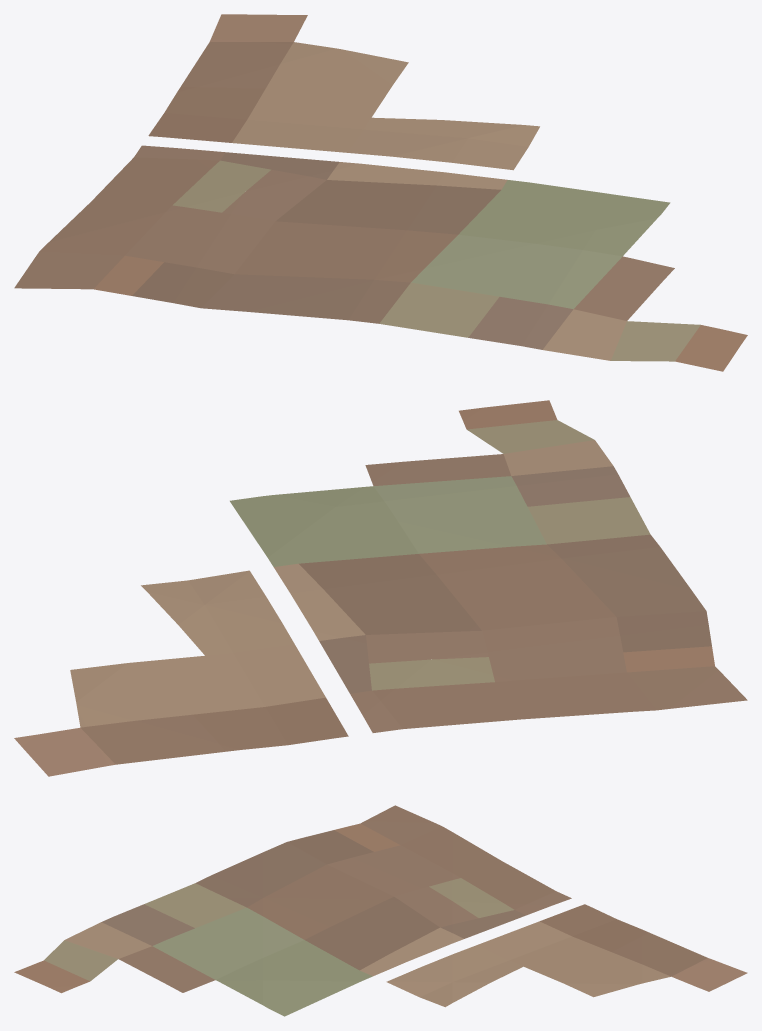
Rendered from farm_7_18_soil.glb.
The picture shows the model from 3 angles, top to bottom: view 1: azimuth 30°, elevation 25°; view 2: azimuth 150°, elevation 25°; view 3: azimuth 270°, elevation 25°; orthographic projection. The views are drawn at different scales.
Parts seen in each view (by area): view 1: geometry_0; view 2: geometry_0; view 3: geometry_0.
Boxes of the visible parts, x1,y1,x2,y2 form: geometry_0: (14, 14, 747, 371); geometry_0: (14, 400, 747, 776); geometry_0: (14, 805, 747, 1016).
Bounding box in the file's own units: 210 × 5.81 × 310.
